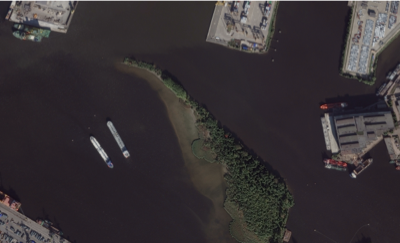boat: (107, 120, 130, 158), (90, 136, 114, 168), (13, 22, 51, 38), (349, 158, 373, 178), (37, 218, 64, 235), (13, 30, 44, 42), (324, 157, 348, 167), (320, 101, 348, 109), (324, 163, 347, 171), (376, 82, 386, 96), (386, 71, 392, 79), (389, 159, 400, 163), (45, 219, 53, 224)
